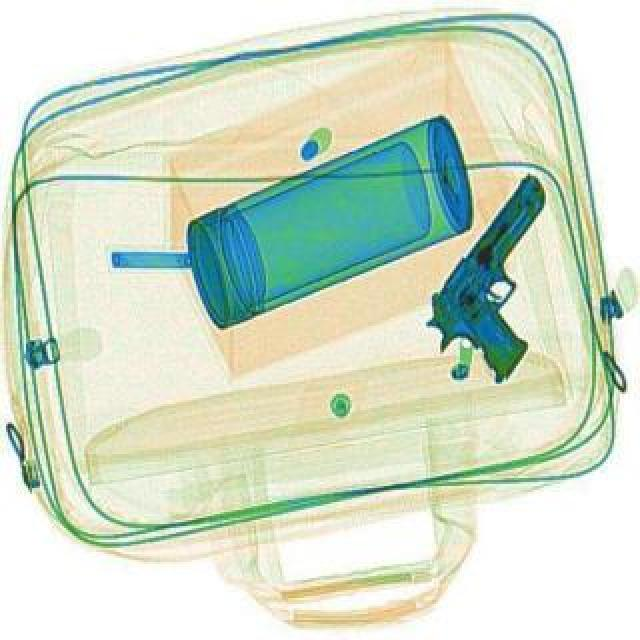gun: (406, 166, 618, 386)
